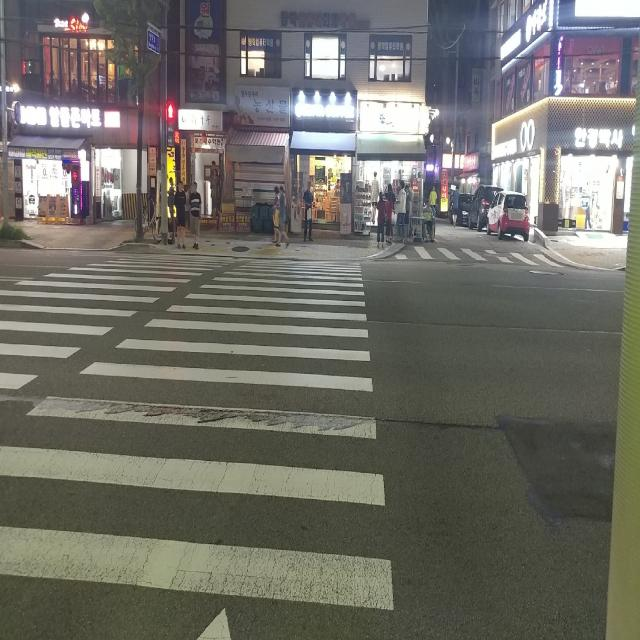빨간불: (166, 102, 175, 148)
횡단보도: (0, 254, 394, 610), (394, 242, 570, 268)
